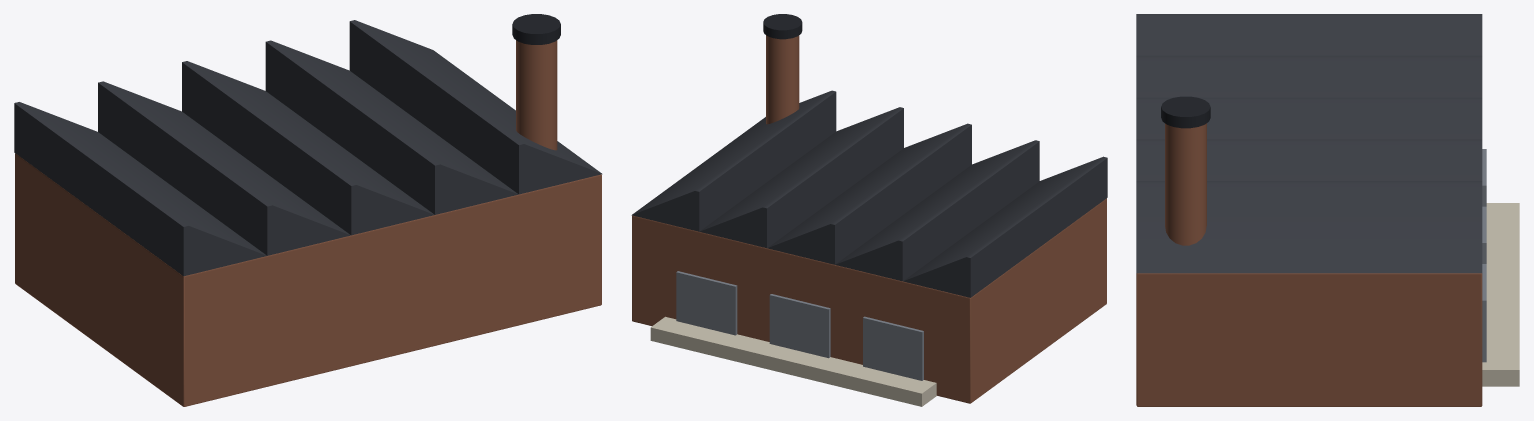
Rendered from works.glb.
The picture shows the model from 3 angles, left to right: view 1: azimuth 30°, elevation 25°; view 2: azimuth 150°, elevation 25°; view 3: azimuth 270°, elevation 25°; orthographic projection. The views are drawn at different scales.
Visible parts, largest first — view 1: part-paint, part-roof, part-dark; view 2: part-roof, part-paint, part-metal, part-stone, part-dark; view 3: part-roof, part-paint, part-stone, part-dark, part-metal.
Part boxes in pixels (bbox=[...]): part-paint: bbox=[15, 40, 601, 406]; part-roof: bbox=[14, 20, 602, 276]; part-dark: bbox=[512, 14, 560, 44]; part-roof: bbox=[631, 90, 1107, 297]; part-paint: bbox=[632, 35, 1106, 403]; part-metal: bbox=[676, 271, 923, 380]; part-stone: bbox=[650, 316, 936, 406]; part-dark: bbox=[763, 14, 802, 39]; part-roof: bbox=[1136, 14, 1482, 273]; part-paint: bbox=[1136, 123, 1482, 406]; part-stone: bbox=[1482, 203, 1519, 386]; part-dark: bbox=[1161, 96, 1210, 128]; part-metal: bbox=[1482, 149, 1486, 362].
Bounding box in the file's own units: 80 × 50 × 62.
